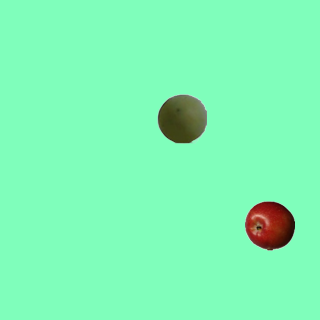Apple Braeburn: (244, 200, 294, 250)
Grape White 4: (156, 93, 206, 143)
